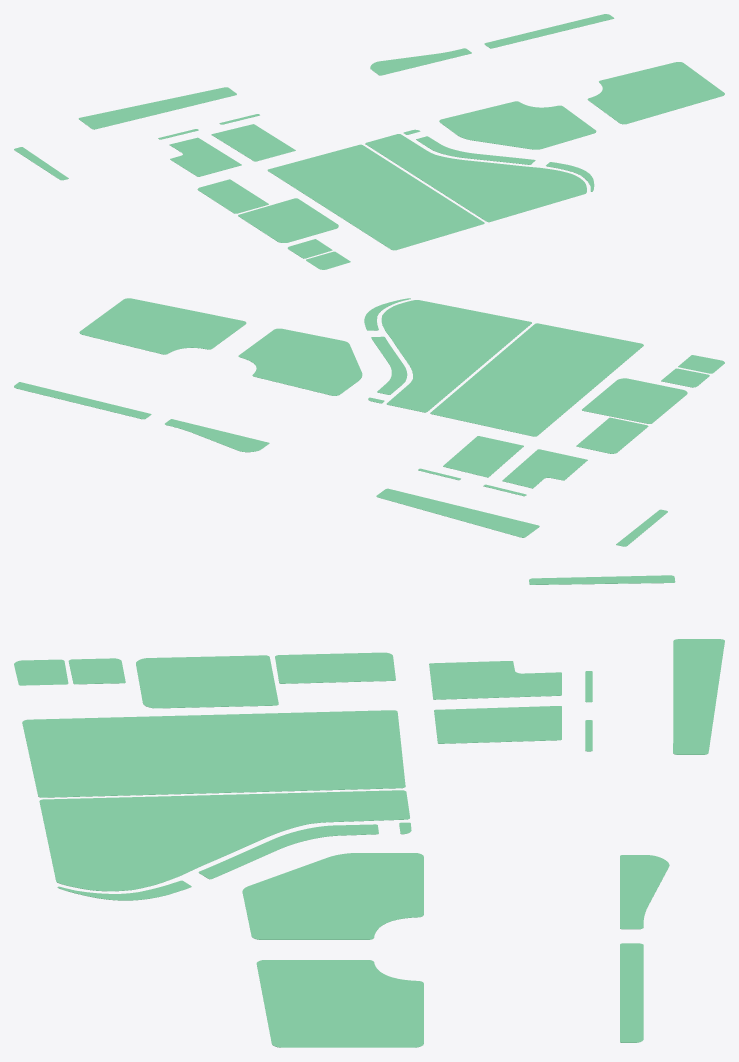
Rendered from grass.glb.
The picture shows the model from 3 angles, top to bottom: view 1: azimuth 30°, elevation 25°; view 2: azimuth 150°, elevation 25°; view 3: azimuth 270°, elevation 25°; orthographic projection. The views are drawn at different scales.
Parts seen in each view (by area): view 1: grass-merge; view 2: grass-merge; view 3: grass-merge.
Boxes of the visible parts, x1,y1,x2,y2 form: grass-merge: (14, 14, 724, 269); grass-merge: (14, 298, 724, 546); grass-merge: (14, 575, 724, 1047).
Size of the model in its own units: 274 by 0.1008 by 175.
